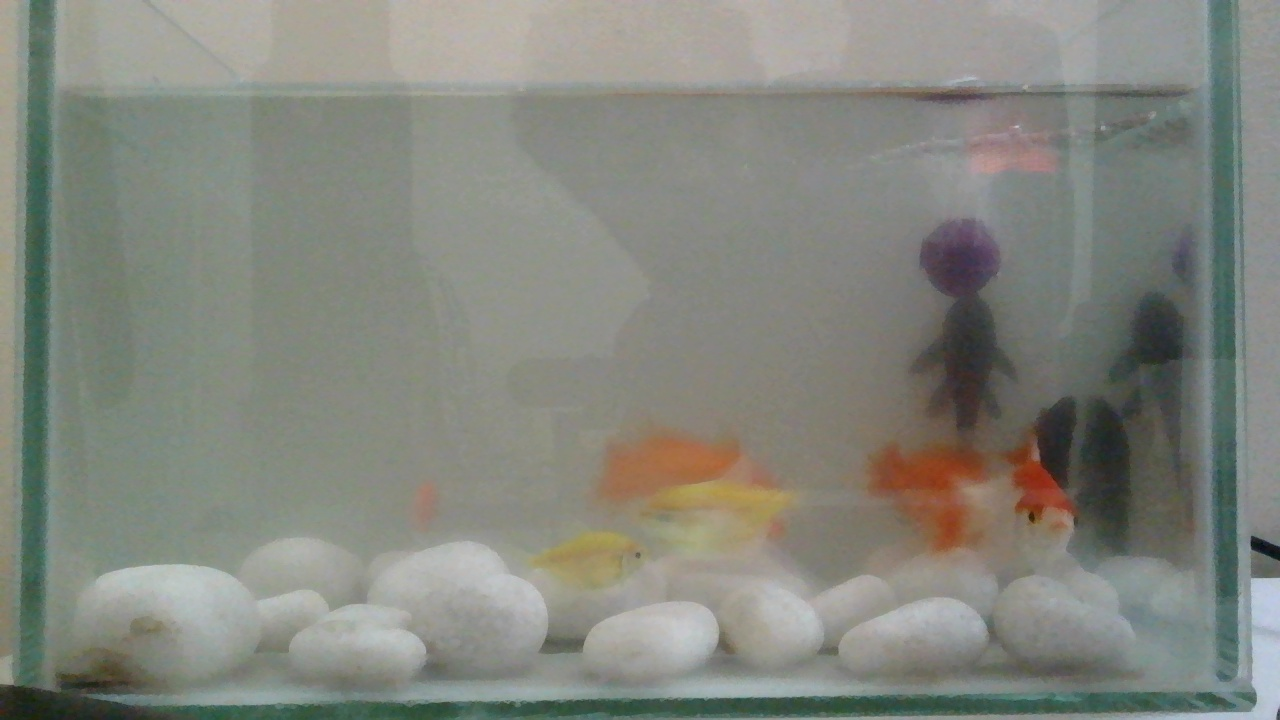fish: (514, 530, 645, 649), (521, 527, 646, 598)
